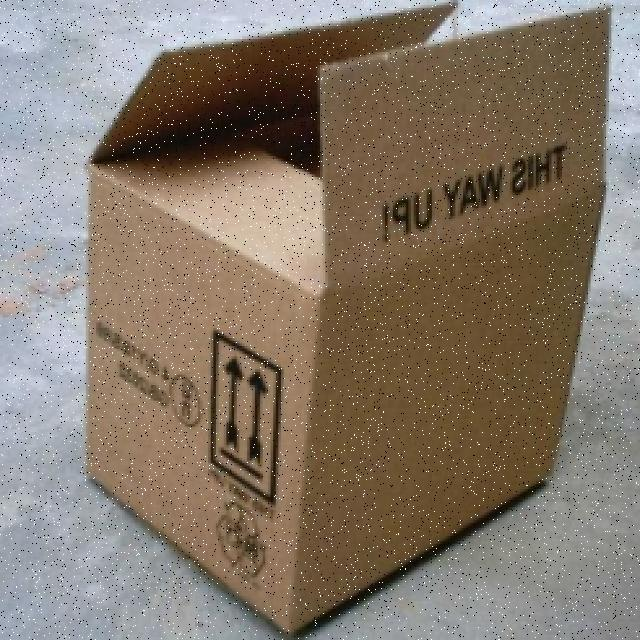box: (70, 0, 624, 632)
